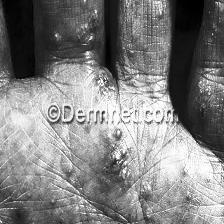Non-Cancerous Skin Condition: (110, 130, 130, 182), (80, 10, 100, 45), (53, 31, 62, 47)
